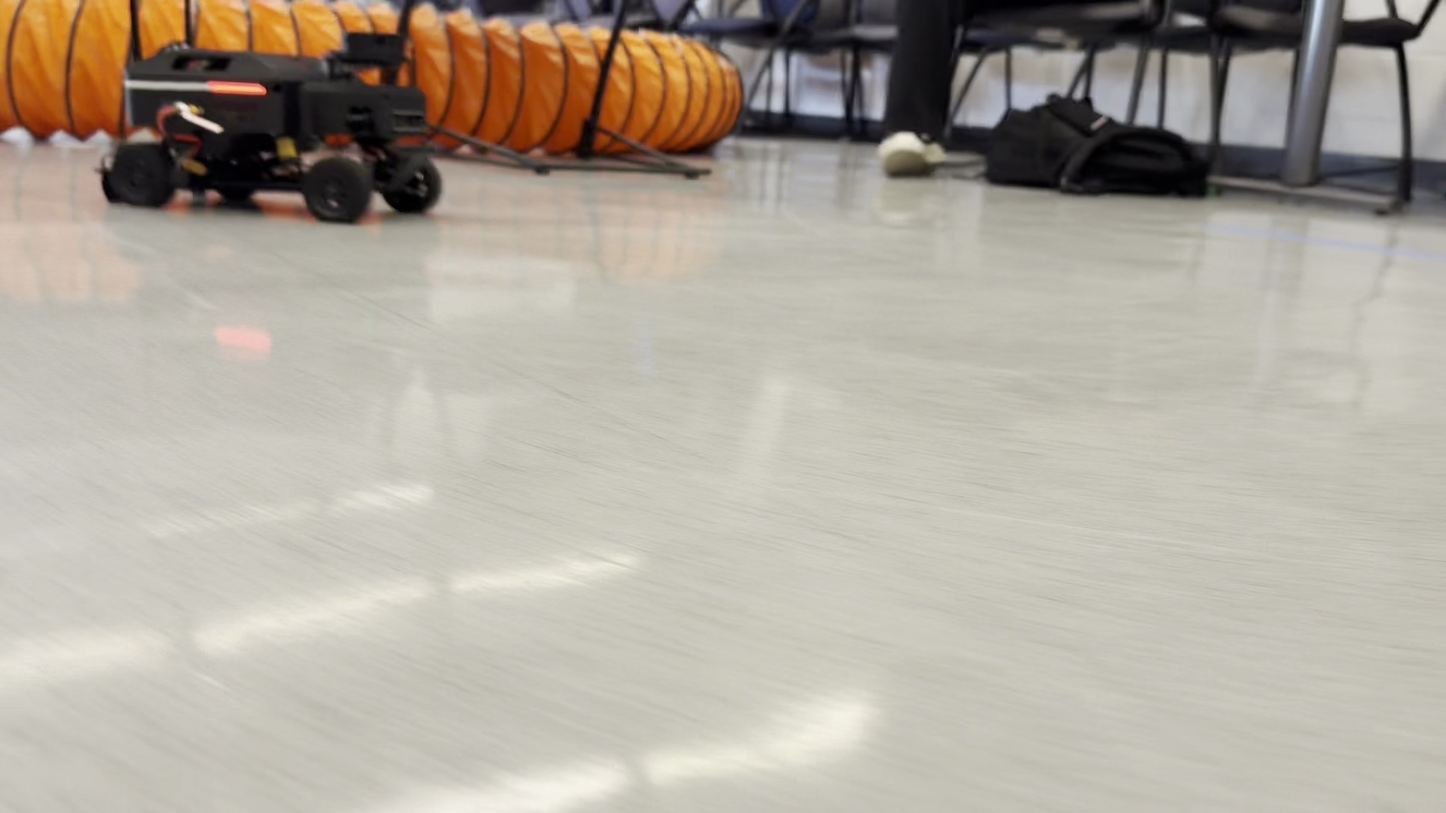racecar: (100, 43, 445, 225)
